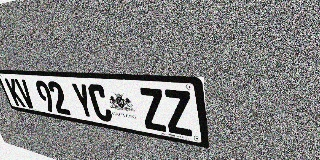2: (46, 81, 71, 115)
9: (34, 80, 57, 113)
C: (86, 84, 114, 123)
K: (4, 78, 26, 107)
V: (14, 79, 36, 109)
Y: (70, 83, 96, 120)
Z: (162, 89, 194, 137), (138, 87, 168, 132)
